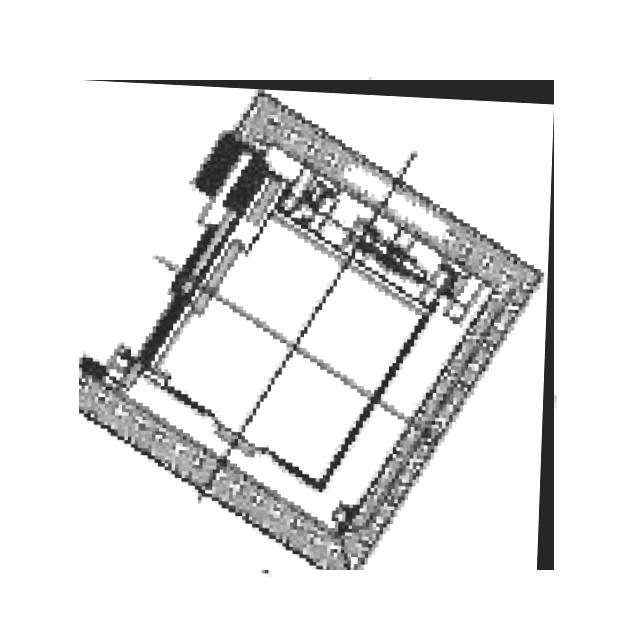lift: (79, 80, 554, 570)
